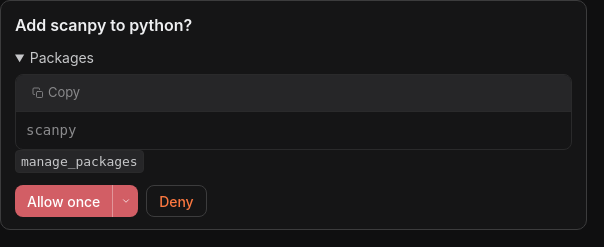
Test case: PermissionCard — an environment › offers no standing grant to install software
Click the button named "Choose approval scope": (125,201) [112,185,138,217]
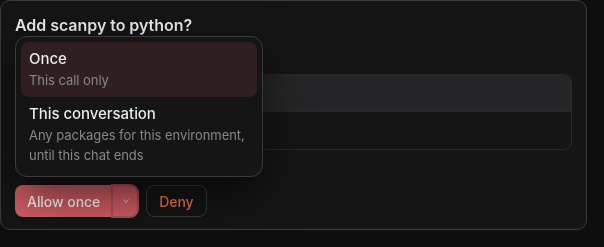
Expected: the text "Once" is shown, [29,48,67,70]
Expected: the text "This conversation" is shown, [29,102,156,125]
